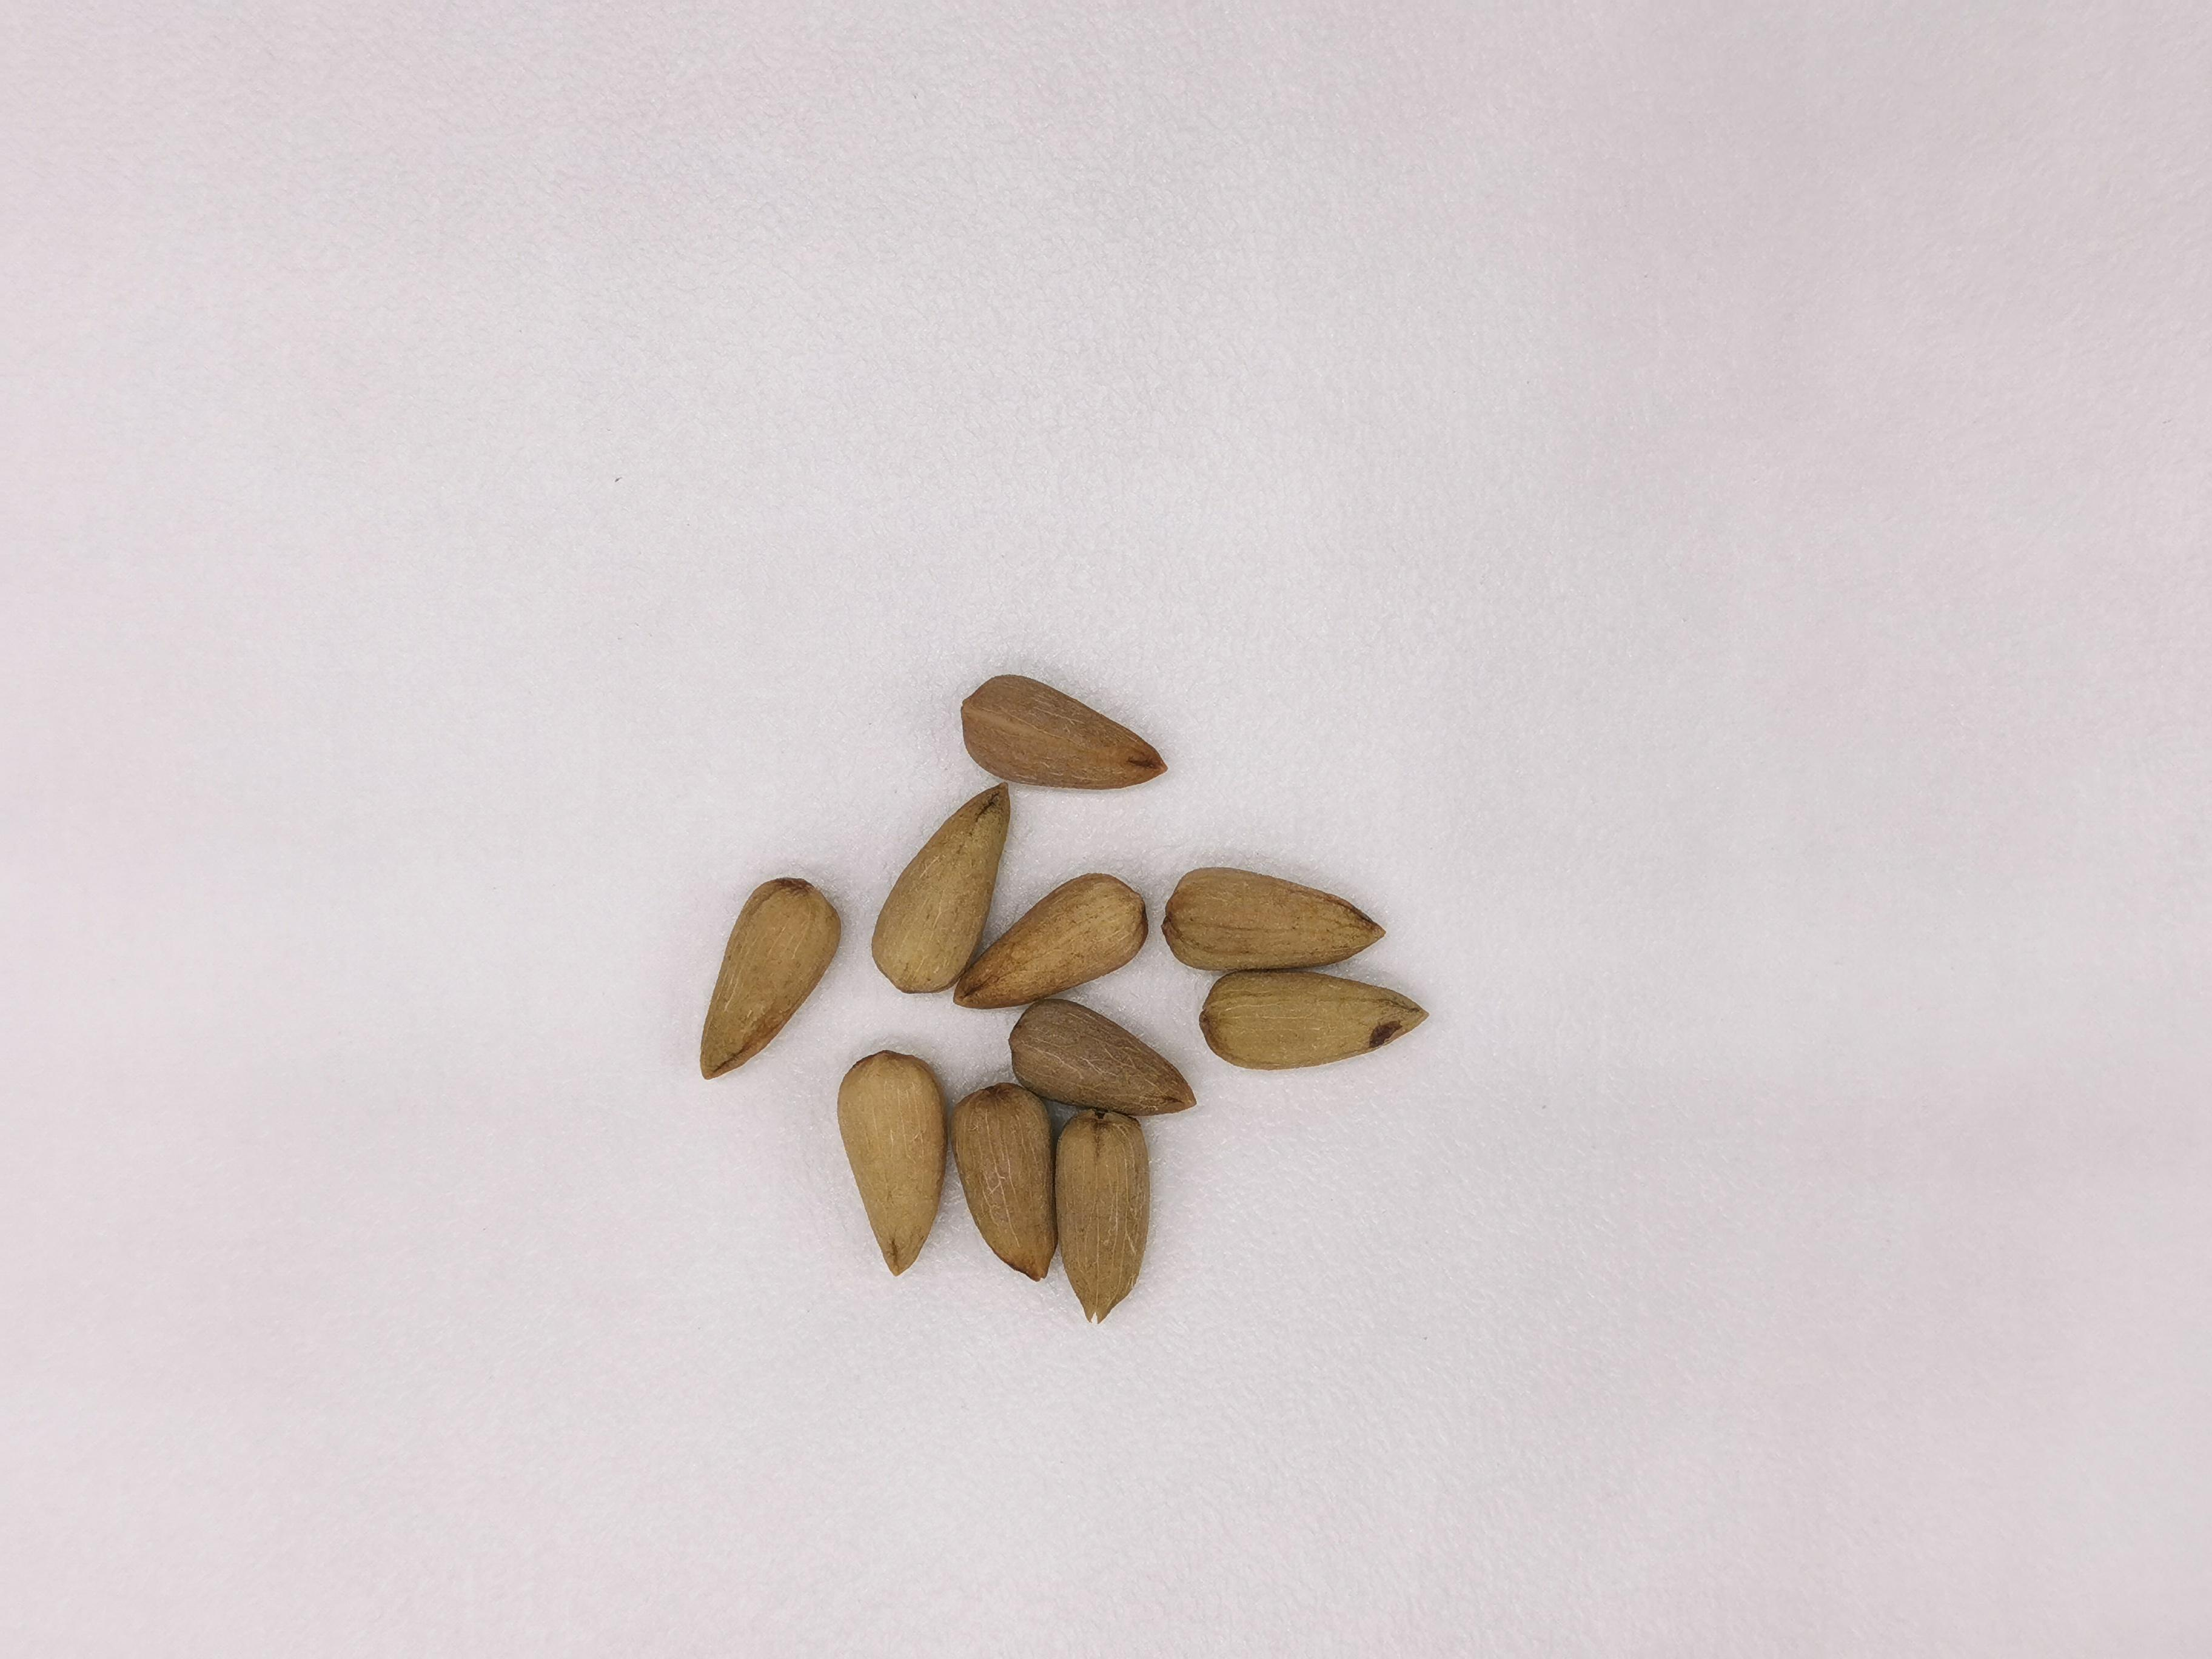seed: (688, 878, 838, 1093), (873, 782, 1014, 990), (953, 875, 1148, 1009), (836, 1047, 942, 1276), (1165, 866, 1388, 972), (961, 674, 1172, 786), (1204, 971, 1430, 1073), (1003, 999, 1198, 1115), (1054, 1108, 1151, 1326), (951, 1082, 1054, 1276)
